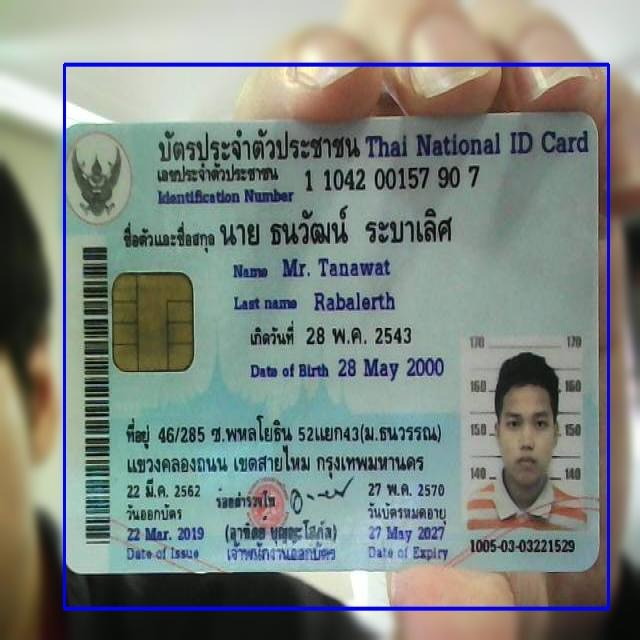Address_th: (120, 408, 447, 483)
Date_of_Birth: (334, 350, 448, 384)
Date_of_Expiry: (364, 522, 451, 546)
Date_of_Issue: (120, 522, 208, 544)
First_Name: (275, 250, 394, 283)
ID_Number: (298, 161, 487, 194)
Image: (462, 334, 585, 534)
Last_Name: (309, 287, 399, 316)
Thai_Name: (217, 200, 455, 255)
